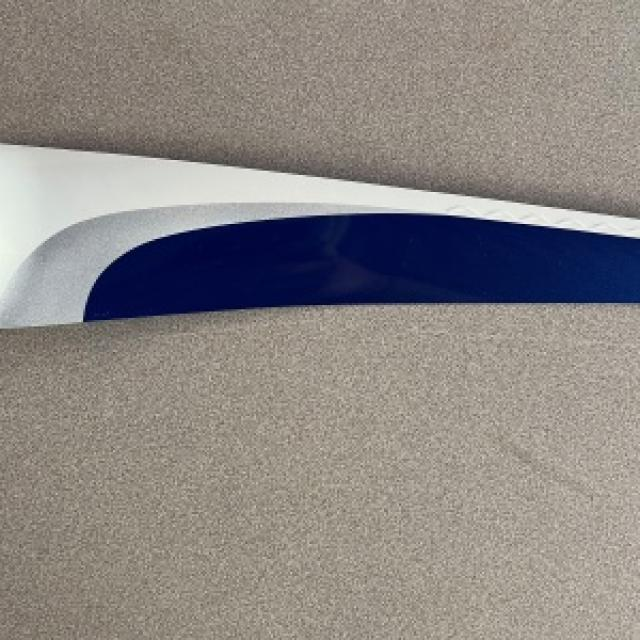healthy: (0, 305, 638, 638), (0, 145, 638, 324)
